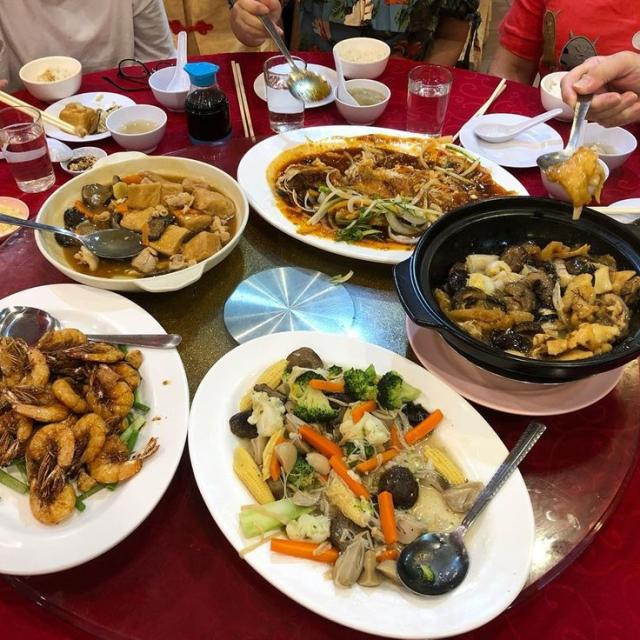ca hap: (275, 127, 510, 256)
dau hu ham: (30, 165, 248, 278)
rau cu xao: (208, 336, 502, 605)
